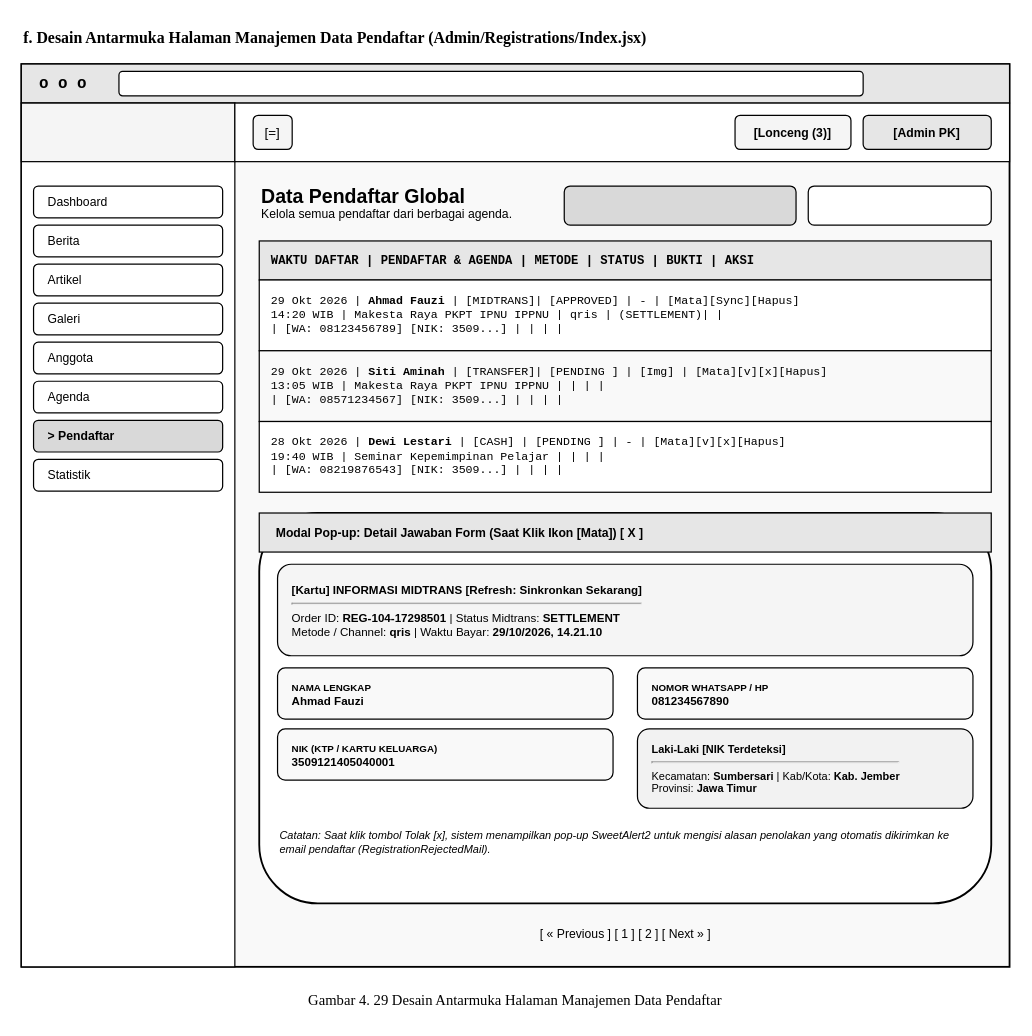
This 1032x1036 diagram has some shape labels left out. The shapes that lost their labels are listed below. From the top down, each one's centre as x and y in pixels, then its label:
At pixel 490 83: "https://pkpt-ipnu-ippnu.or.id/admin/registrations".
At pixel 127 132: "[IP] AdminPanel [ ADMIN ]".
At pixel 679 205: "[Refresh] Sinkronkan Semua Midtrans".
At pixel 899 205: "Semua Agenda [Filter]".
